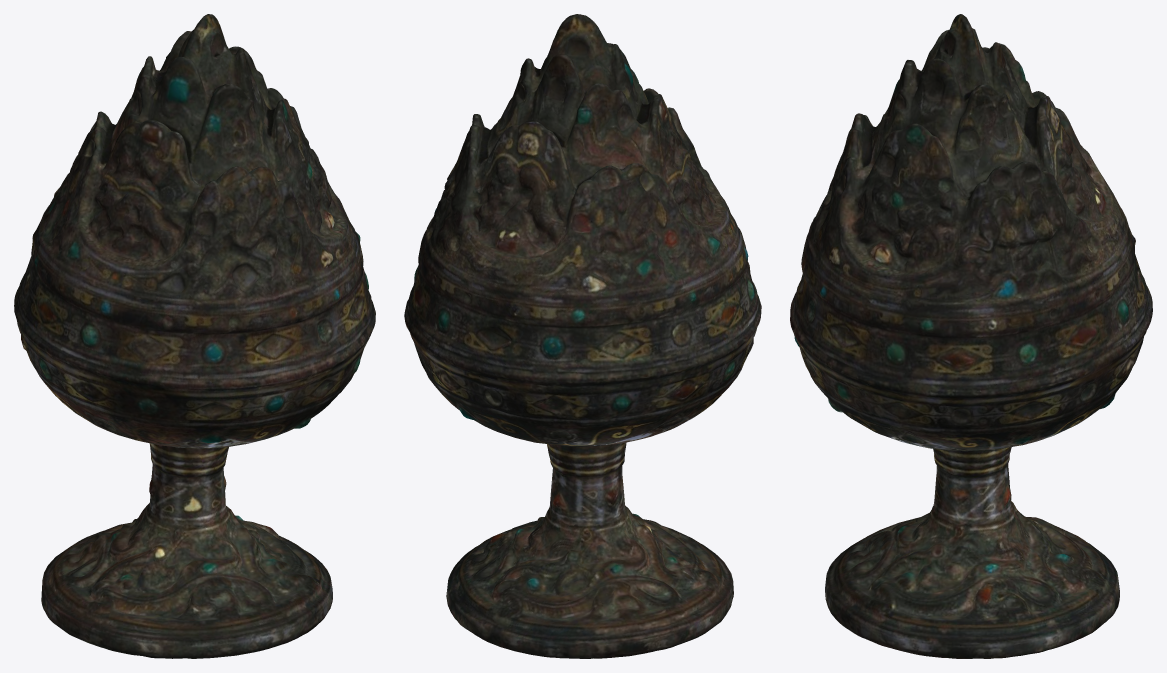
Rendered from smithsonian-boshan-incense-burner-room.glb.
The picture shows the model from 3 angles, left to right: view 1: azimuth 30°, elevation 25°; view 2: azimuth 150°, elevation 25°; view 3: azimuth 270°, elevation 25°; orthographic projection. The views are drawn at different scales.
Bounding box in the file's own units: 0.1008 × 0.1794 × 0.0999.
Materials: 1 (1 with a texture image).
